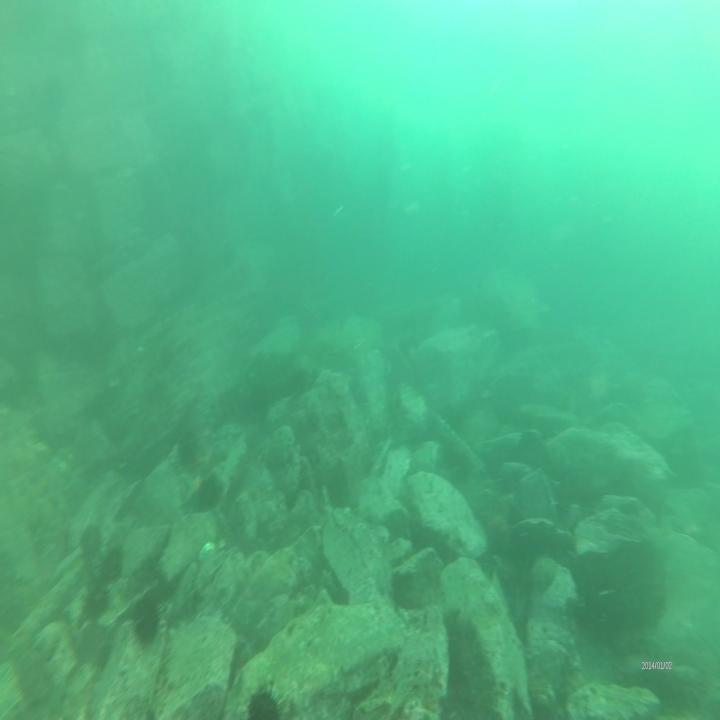echinus: (245, 684, 282, 720), (132, 595, 158, 642), (84, 575, 109, 616), (175, 427, 200, 466), (80, 523, 104, 561), (100, 544, 124, 582), (202, 473, 226, 509)
starfish: (182, 470, 205, 503)
